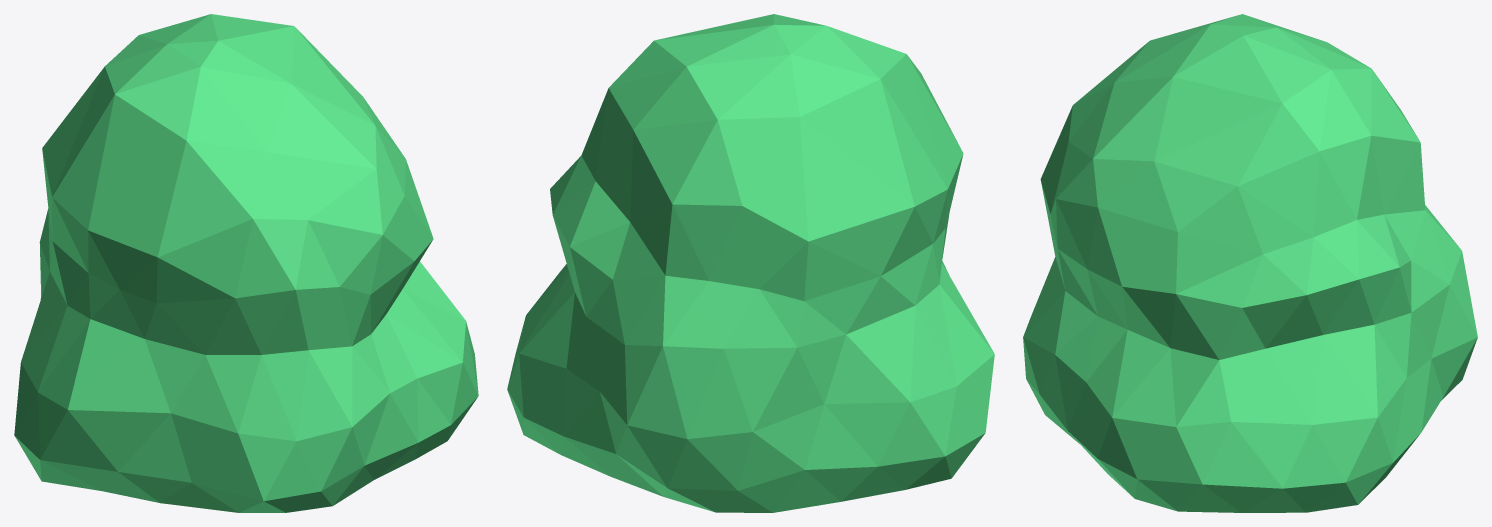
Rendered from krzak_1.fbx.
3 views of the same model, side by side, from view 1: azimuth 30°, elevation 25°; view 2: azimuth 150°, elevation 25°; view 3: azimuth 270°, elevation 25° (orthographic). The views are drawn at different scales.
Visible parts, largest first — view 1: Icosphere.001; view 2: Icosphere.001; view 3: Icosphere.001.
Boxes of the visible parts, bbox=[...] form: Icosphere.001: bbox=[14, 14, 478, 512]; Icosphere.001: bbox=[507, 14, 994, 512]; Icosphere.001: bbox=[1023, 14, 1477, 512].
Bounding box in the file's own units: 680 × 621 × 656.
